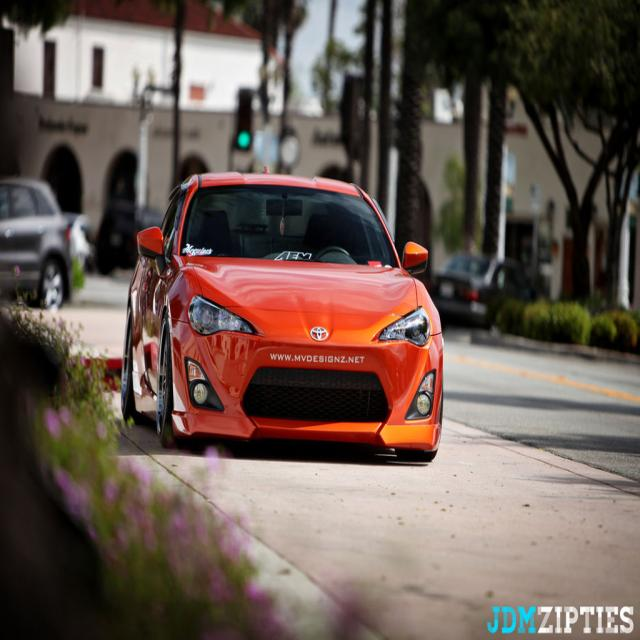car: (118, 163, 444, 461)
